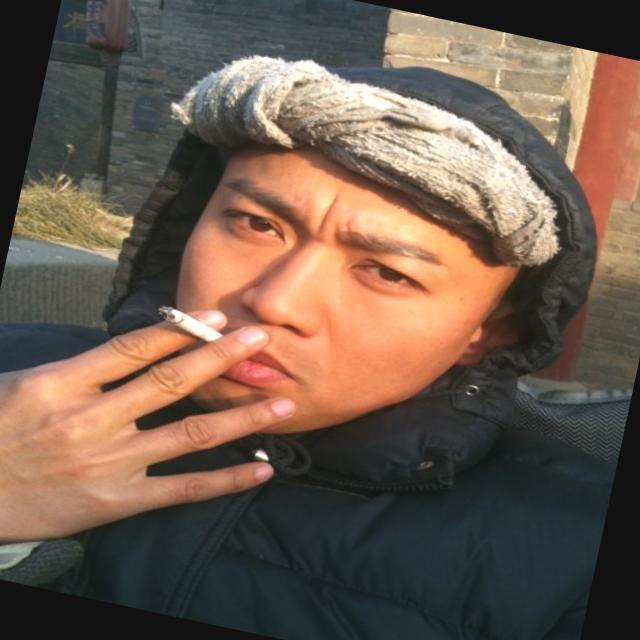cigarette: (154, 302, 222, 348)
